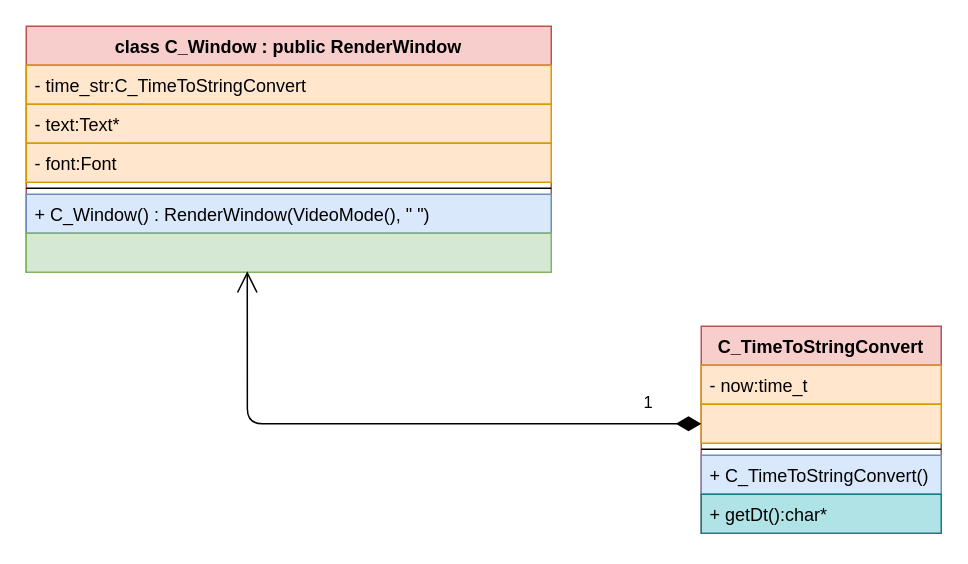
Some shapes in this 968 by 564 pixel diagram are drawn without their labels. The shapes that lost their labels are listed below. From the top down, each one's centre as x and y in pixels, then its label:
At (288,252): "+ display1():void".
At (820,423): "- dt:char*".
